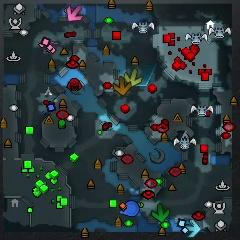p1: (118, 200, 140, 218)
x1: (66, 4, 83, 22)
x2: (124, 67, 144, 87)
x3: (184, 219, 202, 239)
x4: (151, 203, 171, 223)
x5: (113, 77, 132, 96)
